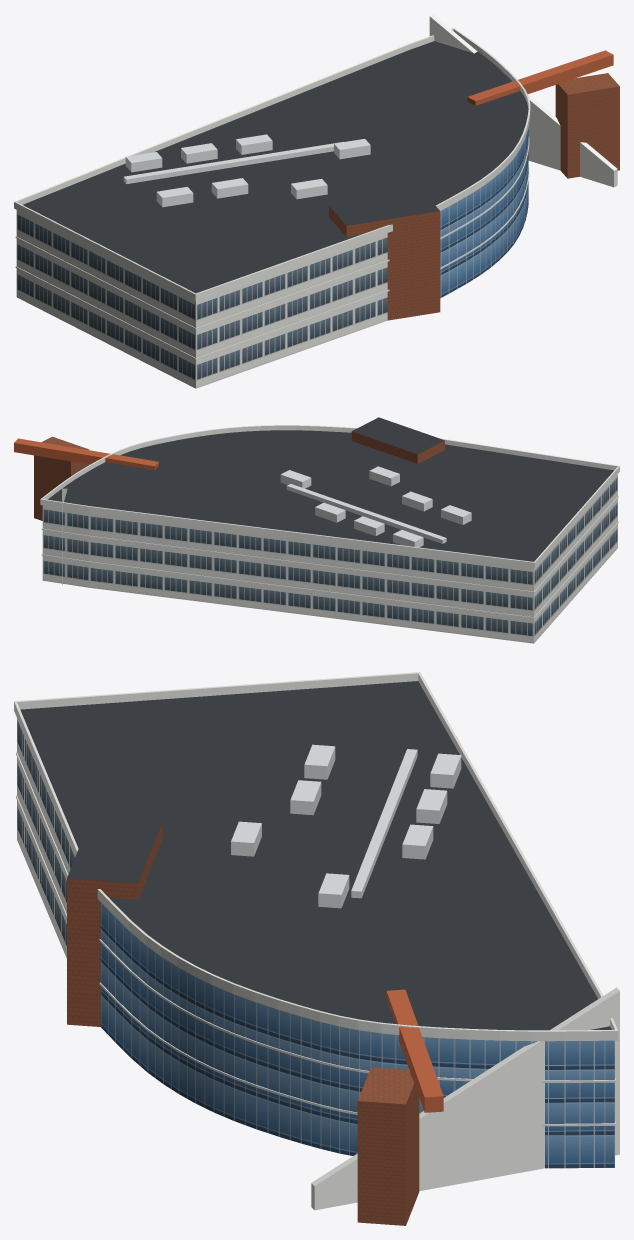
The model's file is dongyuan_shitang.glb.
The picture shows the model from 3 angles, top to bottom: view 1: azimuth 30°, elevation 25°; view 2: azimuth 150°, elevation 25°; view 3: azimuth 270°, elevation 25°; orthographic projection. The views are drawn at different scales.
Parts seen in each view (by area): view 1: 东苑食堂; view 2: 东苑食堂; view 3: 东苑食堂.
Part boxes in pixels (<box>): 东苑食堂: <box>14,14,619,388</box>; 东苑食堂: <box>14,417,619,643</box>; 东苑食堂: <box>14,672,619,1225</box>.
Bounding box in the file's own units: 94.39 × 17 × 56.95.
7 materials, 3 textured.
